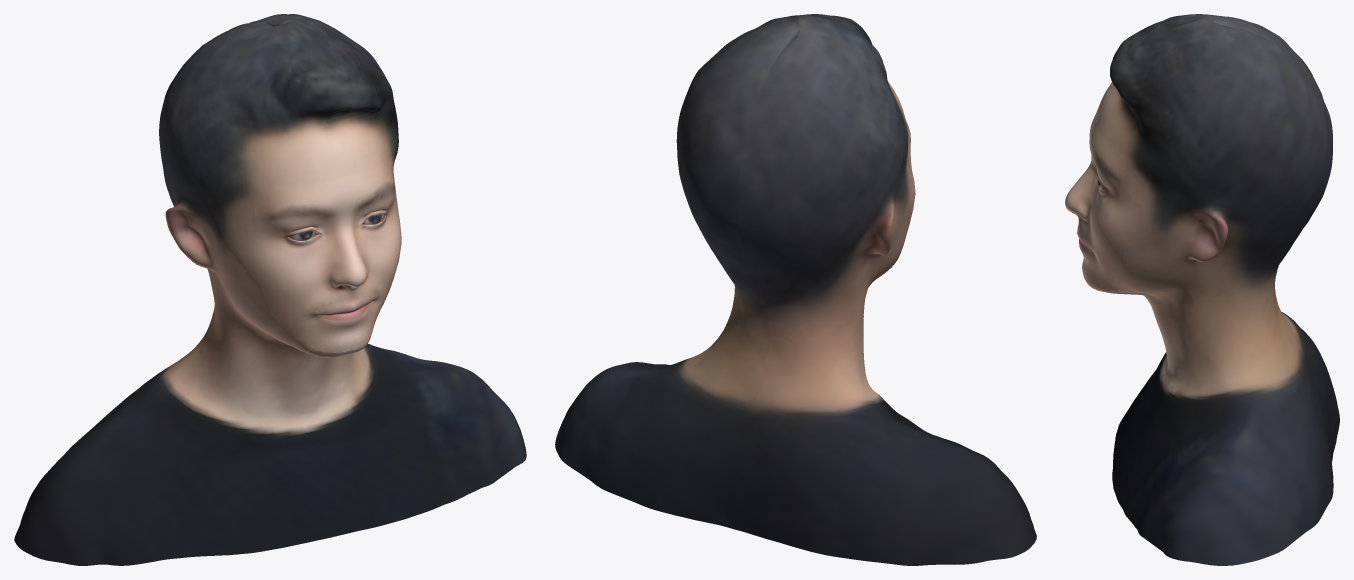
Rendered from asset.glb.
The picture shows the model from 3 angles, left to right: view 1: azimuth 30°, elevation 25°; view 2: azimuth 150°, elevation 25°; view 3: azimuth 270°, elevation 25°; orthographic projection. The views are drawn at different scales.
Visible parts, largest first — view 1: model; view 2: model; view 3: model.
Part boxes in pixels (x1,y1,x2,y2): model: (14,14,526,565); model: (555,14,1036,565); model: (1065,14,1339,565).
Size of the model in its own units: 0.4298 by 0.4016 by 0.2269.
1 material, 1 textured.
